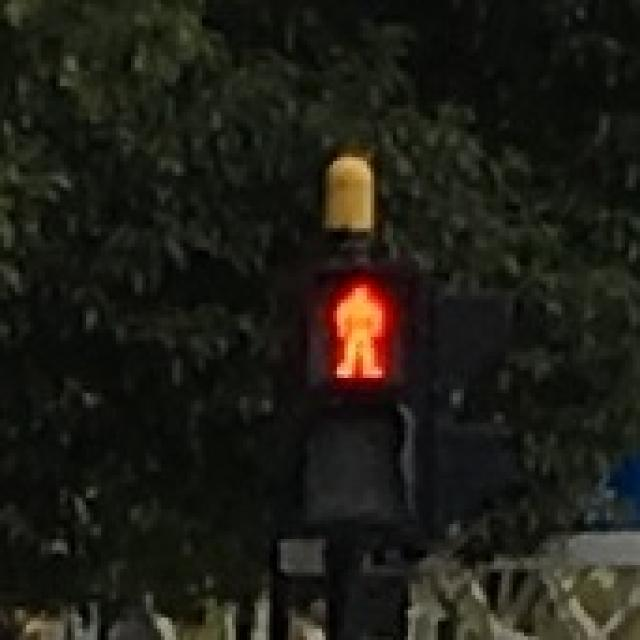red_light: (314, 273, 397, 386)
